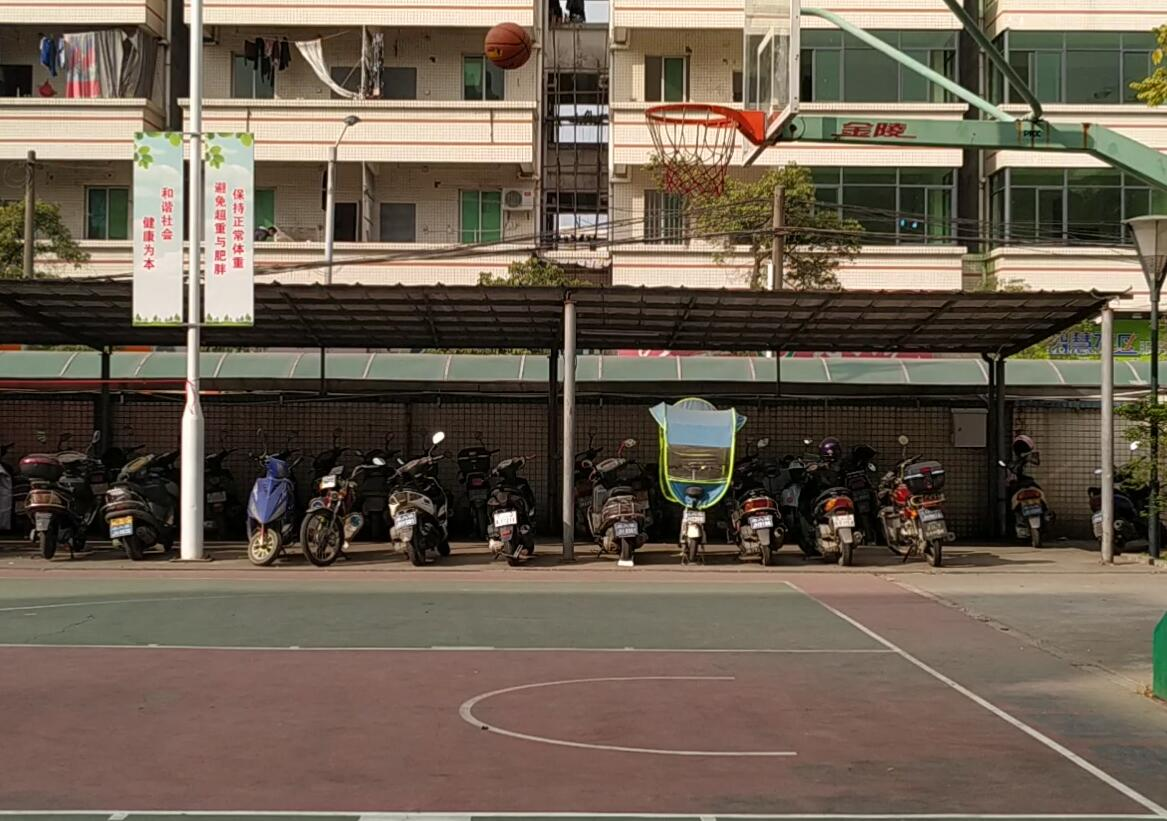basketball: (481, 20, 532, 68)
